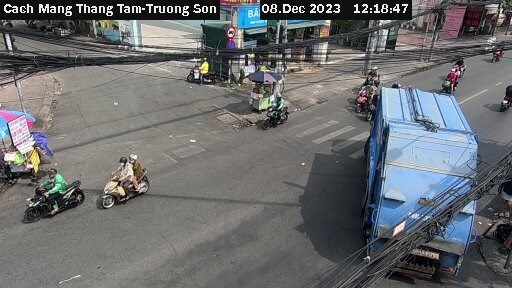motorbike: (98, 160, 167, 212), (22, 172, 78, 223), (261, 94, 300, 131), (445, 54, 476, 84), (489, 77, 512, 113), (434, 69, 464, 94), (483, 38, 508, 62), (354, 67, 382, 86)
truck: (364, 81, 479, 274)
